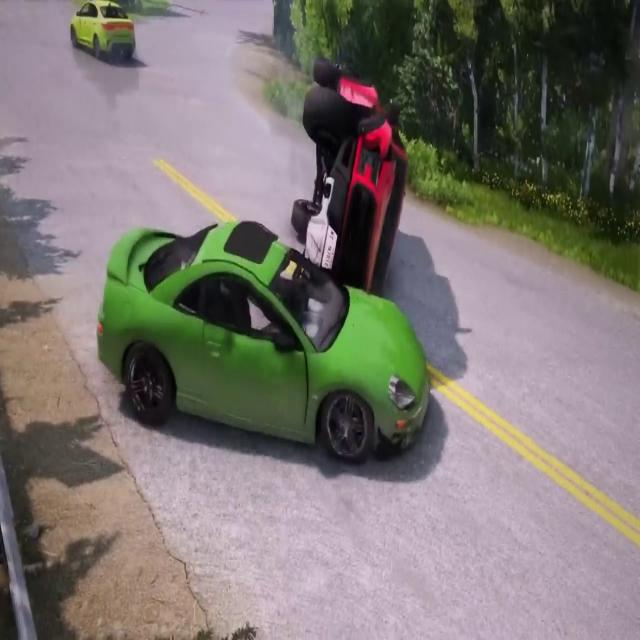accident: (97, 59, 446, 475)
